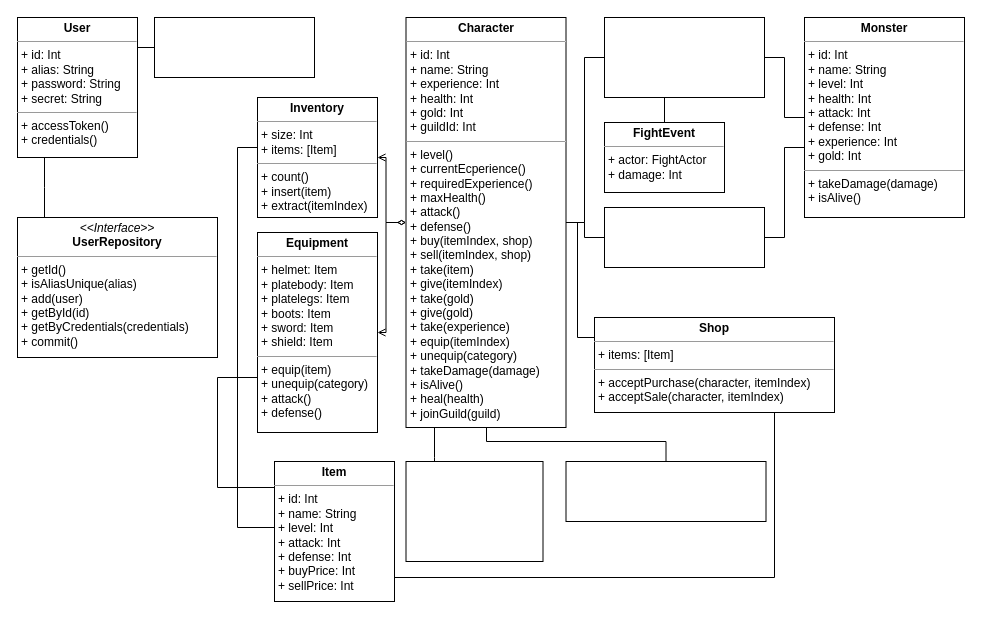
This 982x619 diagram has some shape labels left out. Each missing label, with the box of its shape:
<<Interface>> CharacterRepository + add(character) + getById(id) + commit(): (405, 460, 543, 562)
Bestiary + monsters: [Monster]: (604, 206, 764, 268)
CharacterFactory + buildCharacter(characterId, alias): (565, 460, 766, 522)
Fight + events: FightEvent + rewardGold: Int + rewardExperience: Int: (604, 16, 764, 98)
UserFactory + buildUser(credenttials): (154, 16, 314, 78)
